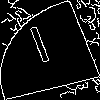I: (25, 25, 58, 73)
